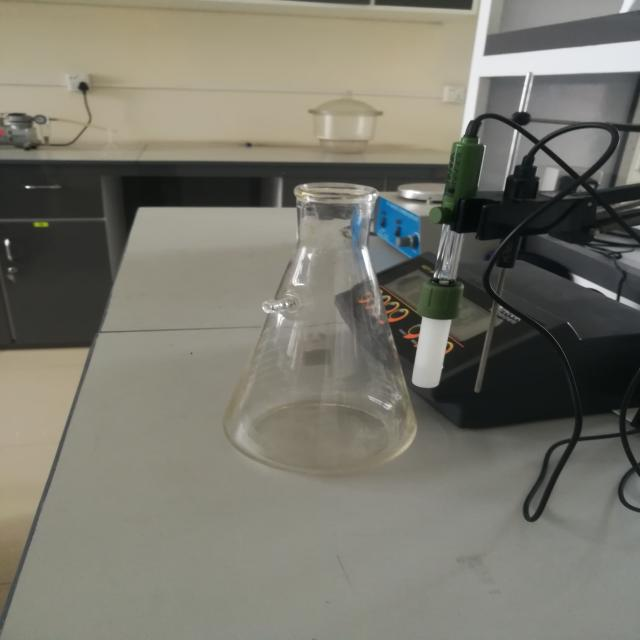Conical_Flask: (164, 153, 483, 492)
